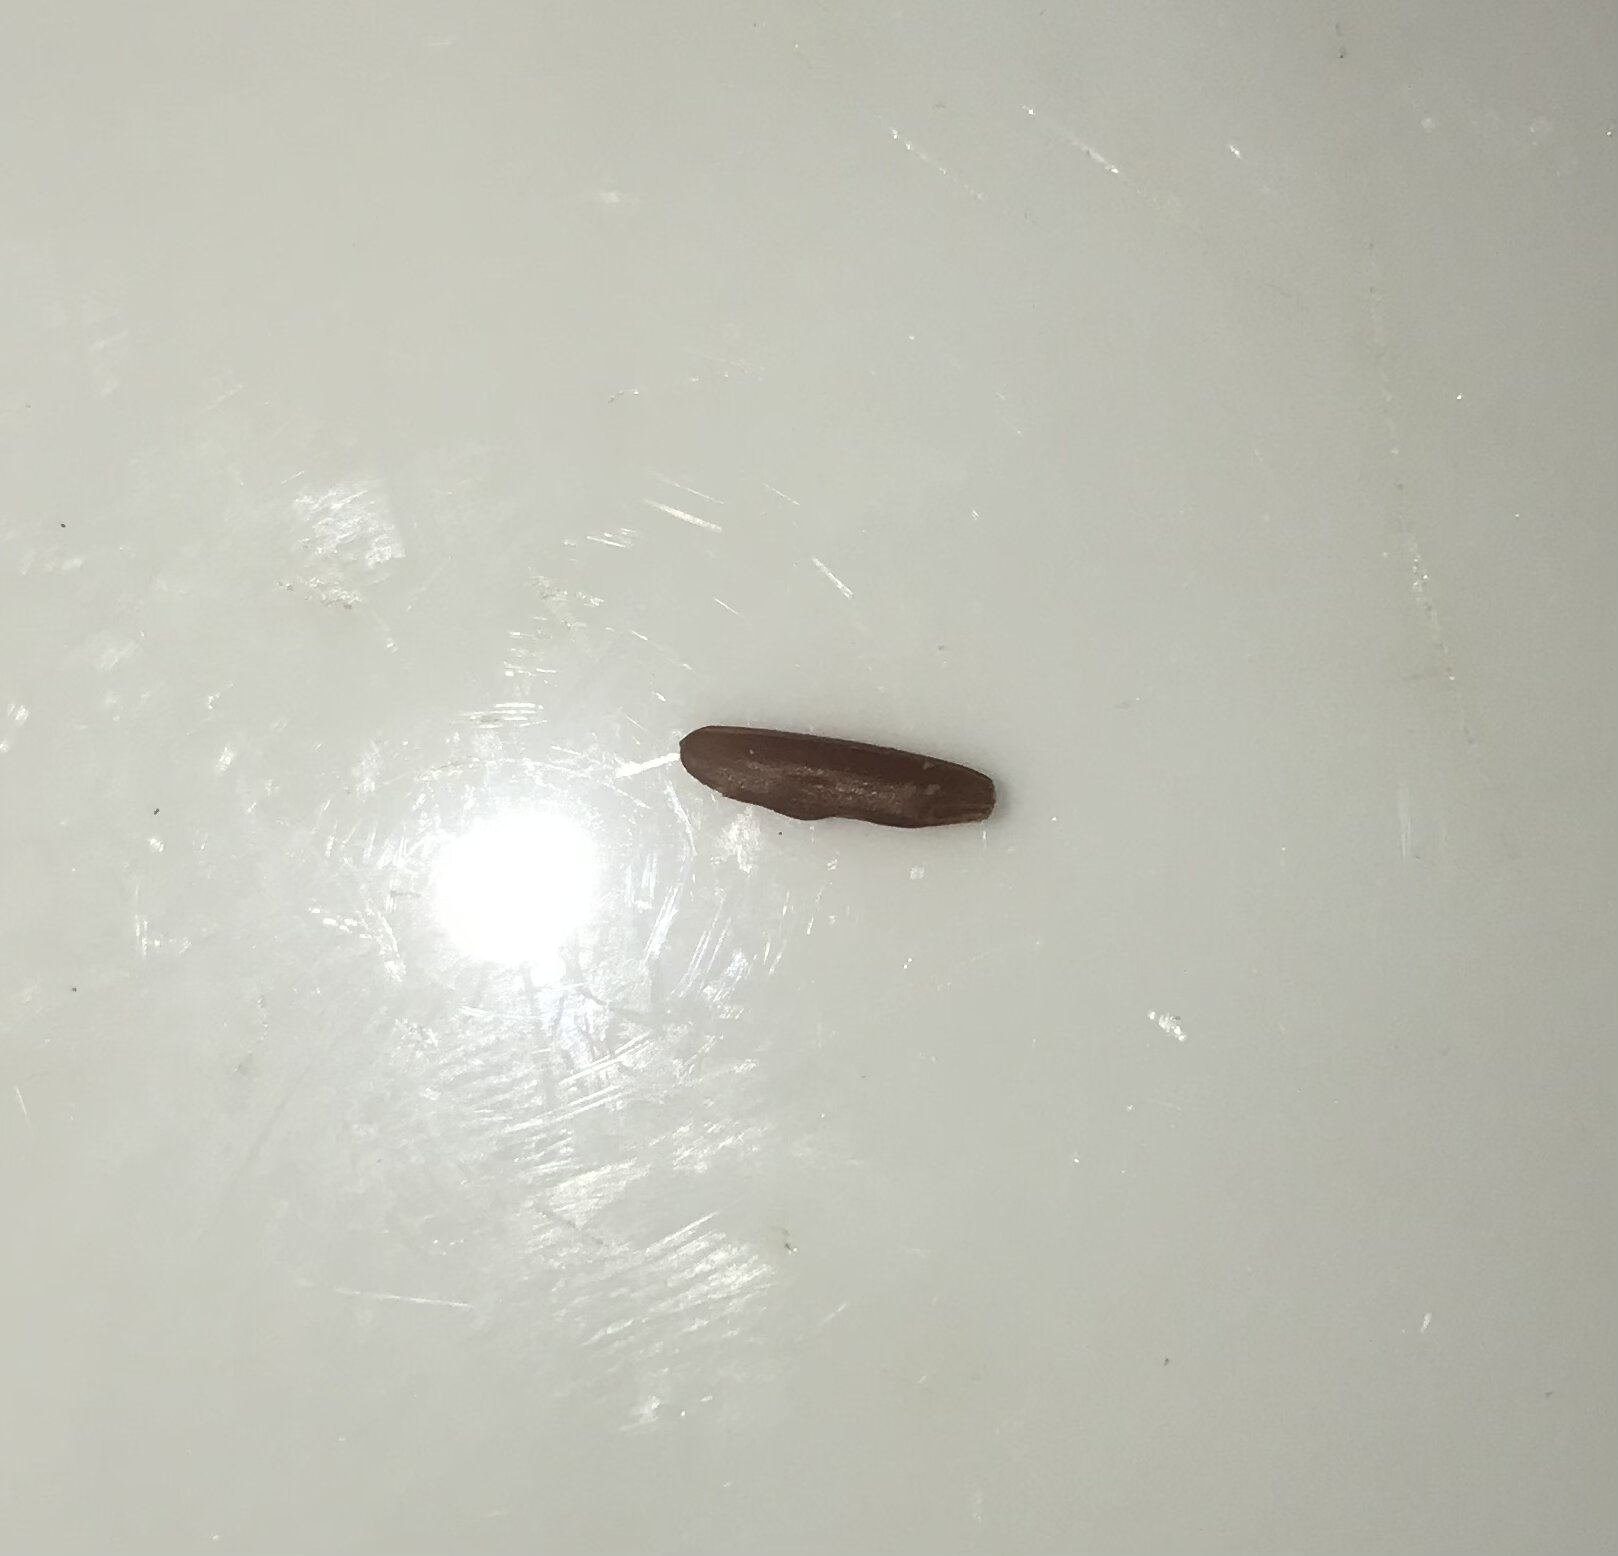Gao Huyet Rong: (670, 709, 1003, 844)
